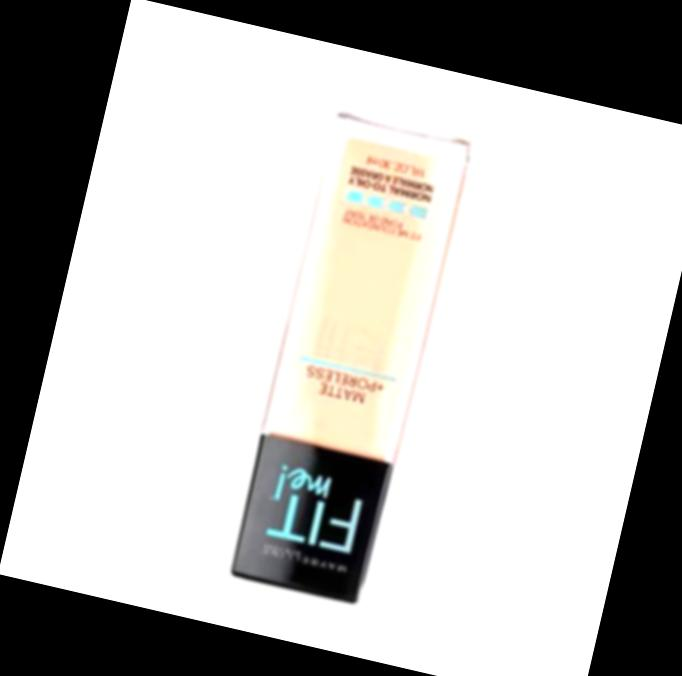cosmetic: (226, 101, 468, 606)
